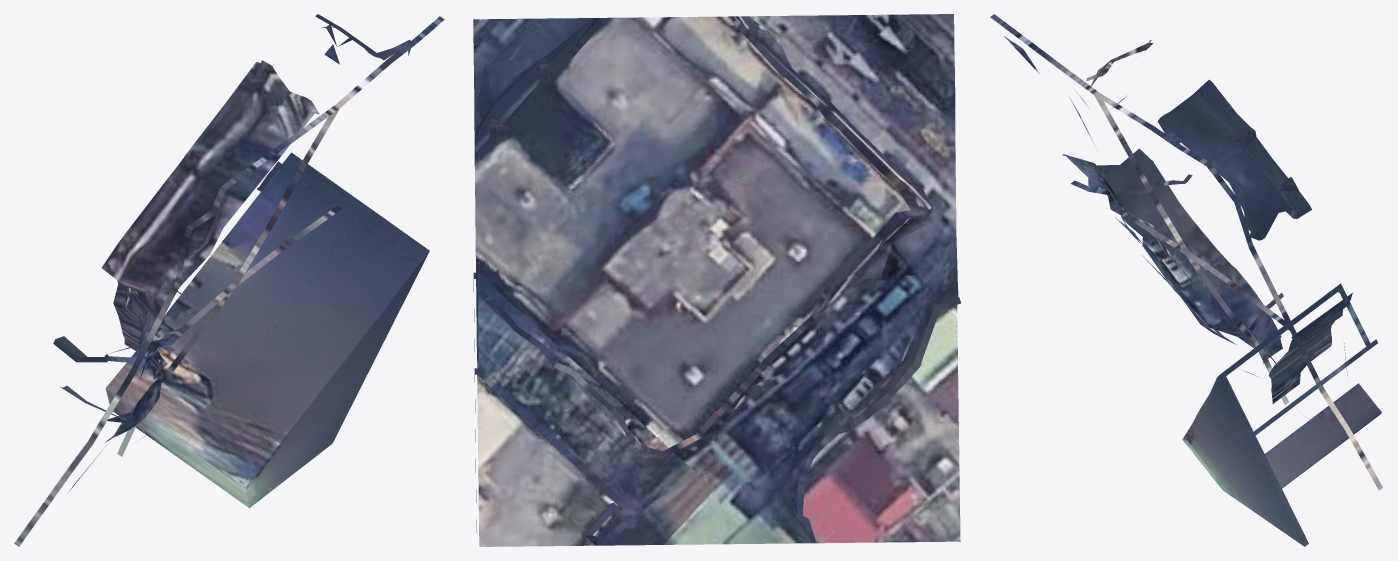
The picture shows the model from 3 angles, left to right: view 1: azimuth 30°, elevation 25°; view 2: azimuth 150°, elevation 25°; view 3: azimuth 270°, elevation 25°; orthographic projection. The views are drawn at different scales.
Bounding box in the file's own units: 39.06 × 40.49 × 32.96.
Materials: 2 (2 with a texture image).
